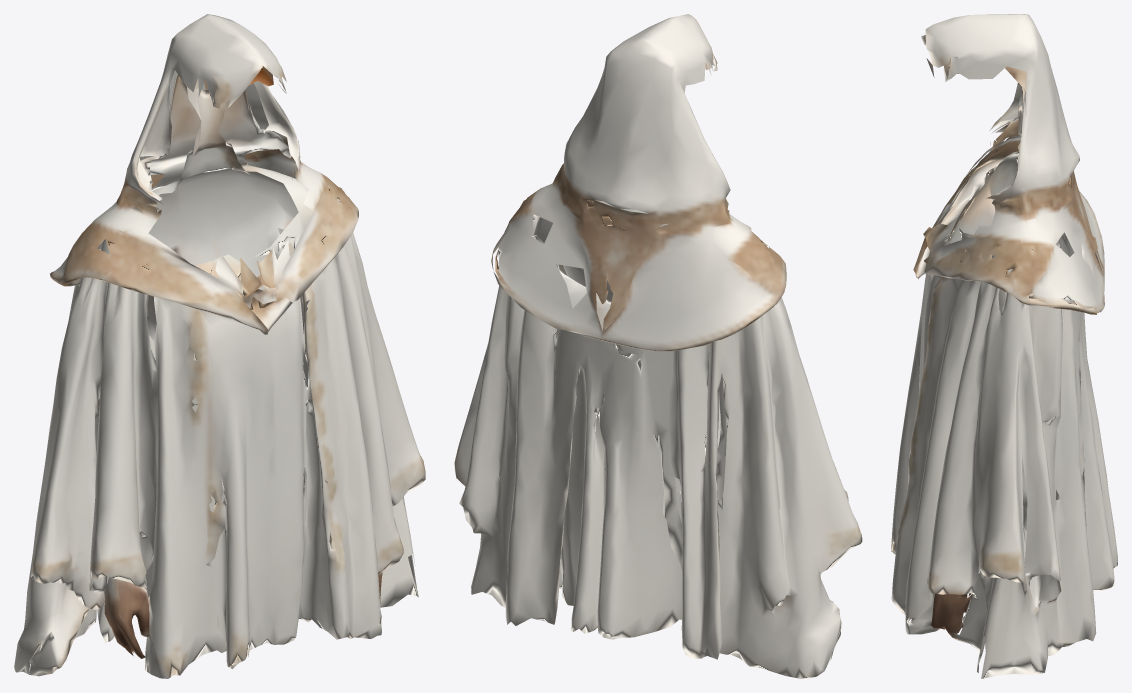
File: armor_priest_vestment_cowl.glb
3 renders of one model, left to right at view 1: azimuth 30°, elevation 25°; view 2: azimuth 150°, elevation 25°; view 3: azimuth 270°, elevation 25°, orthographic. The views are drawn at different scales.
Visible parts, largest first — view 1: world; view 2: world; view 3: world.
Boxes of the visible parts, x1=… form: world: x1=14, y1=14, x2=425, y2=678; world: x1=454, y1=14, x2=862, y2=678; world: x1=891, y1=14, x2=1117, y2=678.
Bounding box in the file's own units: 0.6812 × 0.9994 × 0.3518.
Materials: 1 (1 with a texture image).
